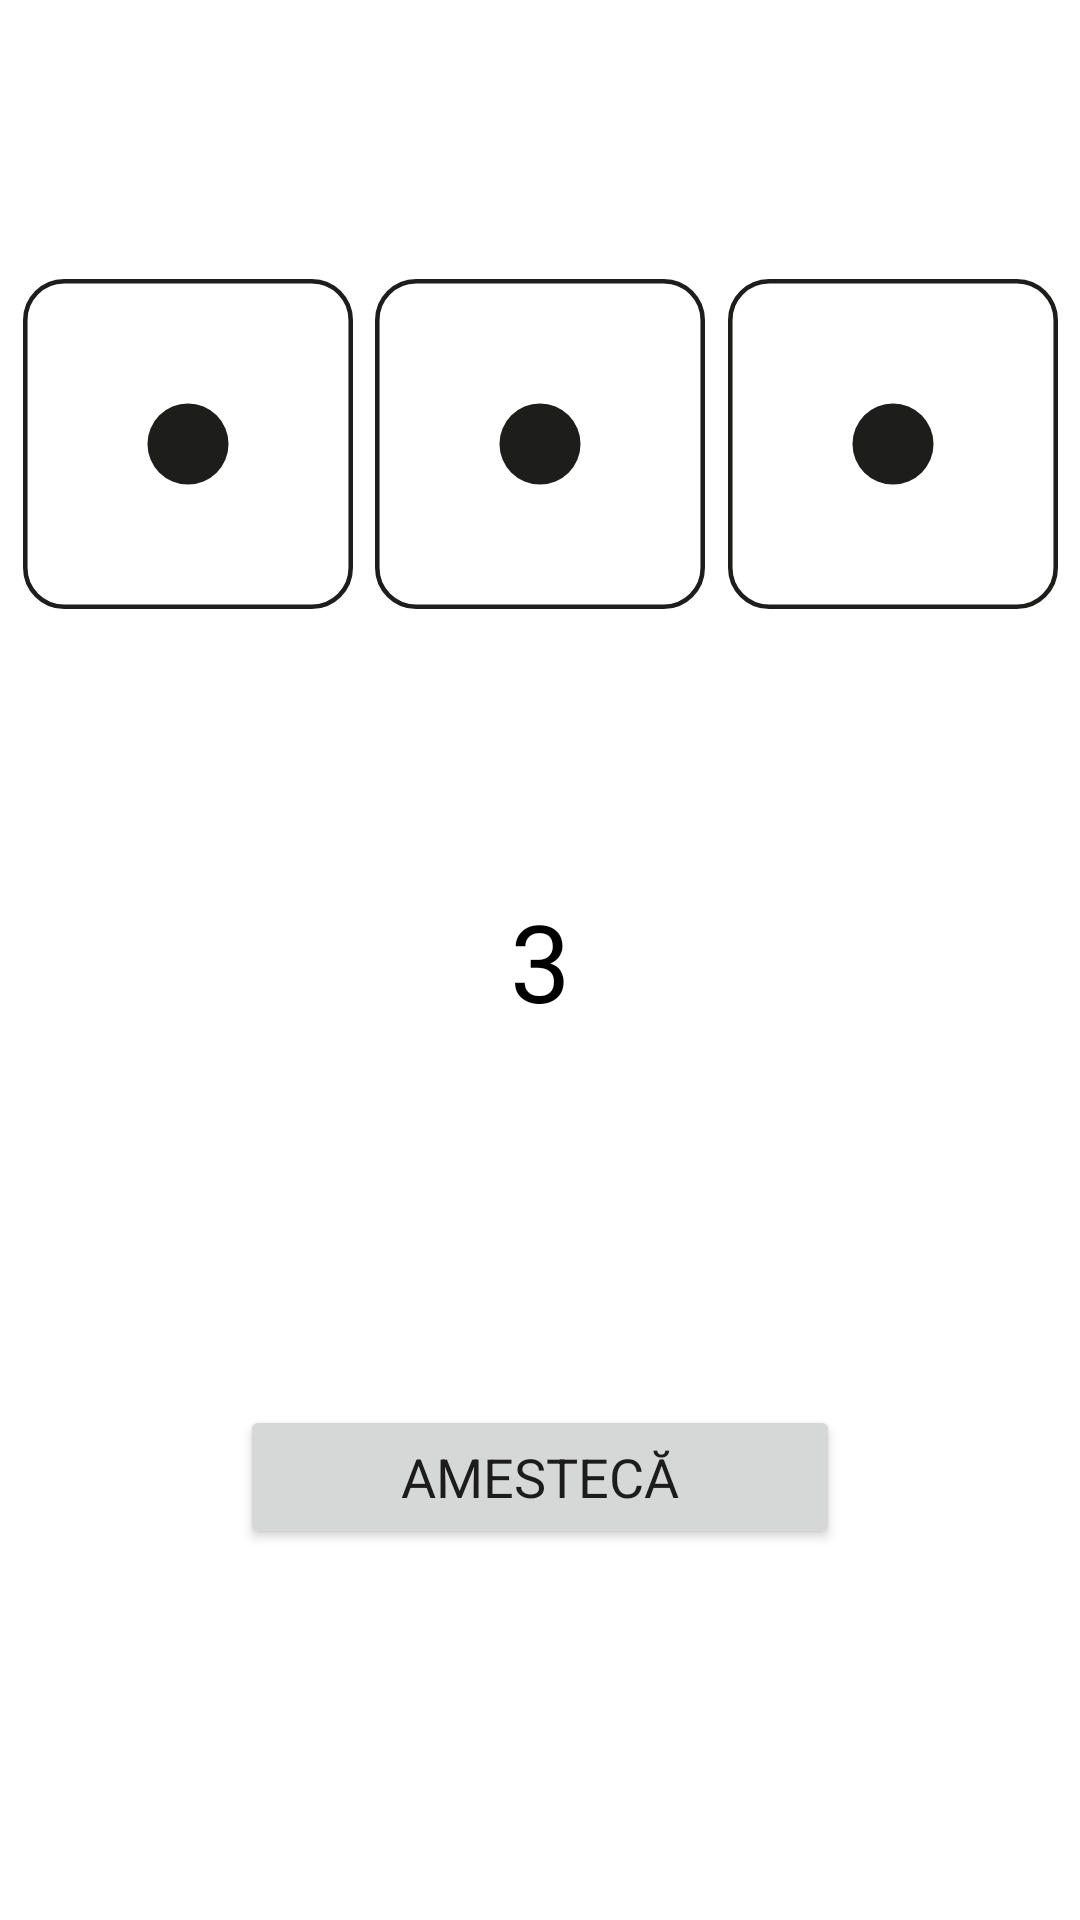

Locate icon controls on the screen. Image size 1080w x 1920h, boxes as (x1, y1, x2, y2).
dice: (23, 279, 353, 609), (375, 279, 705, 609), (728, 279, 1058, 609)
